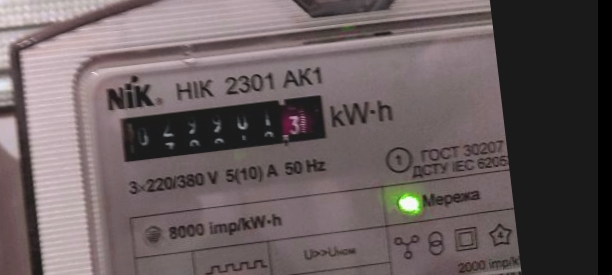0: (233, 106, 250, 132), (134, 124, 152, 147)
1: (258, 104, 274, 128)
2: (158, 118, 176, 139)
3: (286, 112, 302, 135)
9: (208, 111, 225, 134), (184, 114, 198, 137)
screen: (105, 83, 338, 173)
